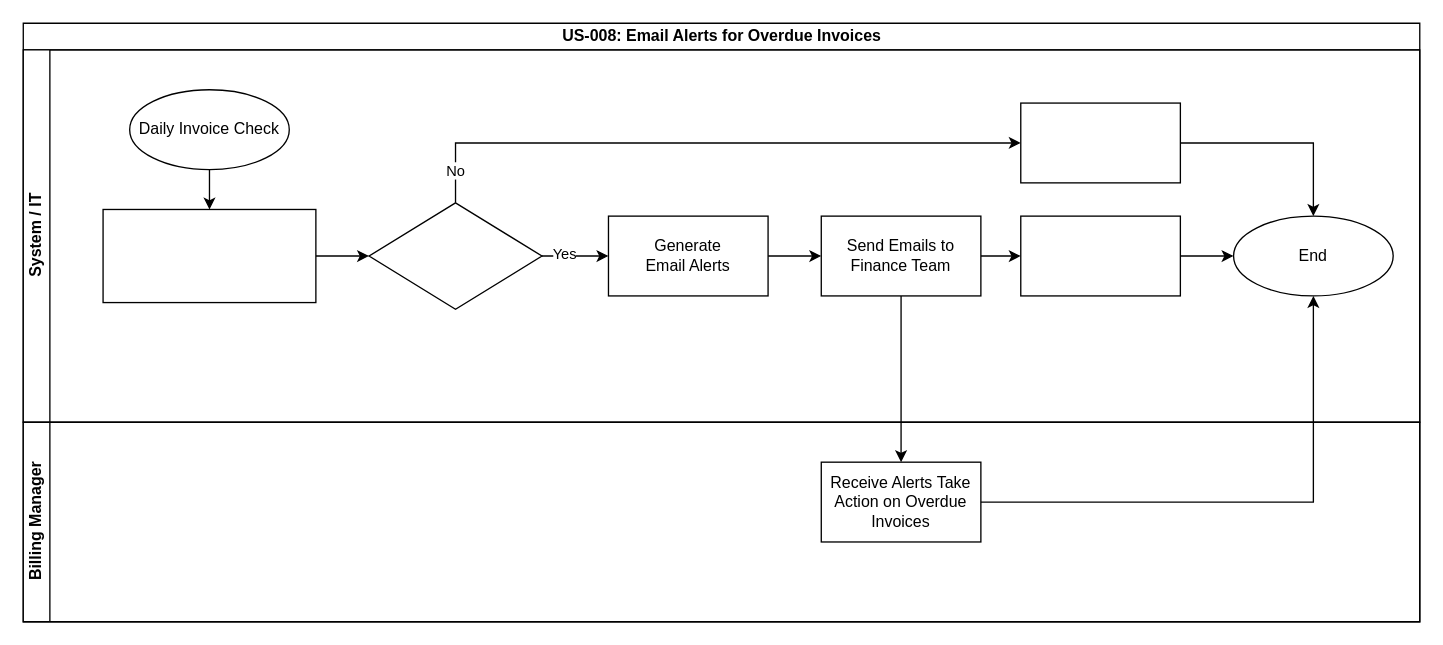
The diagram is 1443 pixels wide and 645 high, and some of its shapes have lost their labels. Each missing label, with the centre of its shape:
"Are there overdue?" belongs at point (455, 255).
"Identify Overdue Invoices Check against thresholds (30/60/90 days)" belongs at point (209, 255).
"Log No Alerts" belongs at point (1099, 142).
"Log Sent Alerts for Audit" belongs at point (1099, 255).
